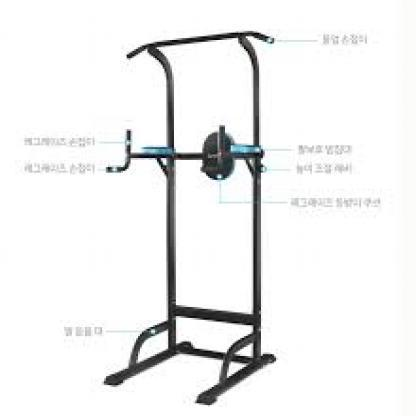chinning dipping: (105, 27, 278, 406)
